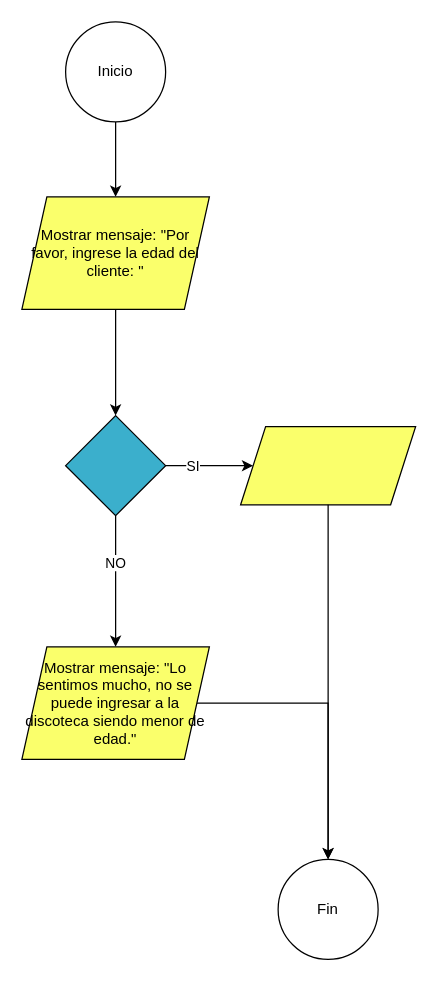
Image size: 438x981. Some labels were removed from this diagram. The centre of each missing label's shape, as x and y in pixels:
Mostrar mensaje: "¡Puedes ingresar a la discoteca!": [327,465]
Si edad >= 18: [115,465]
